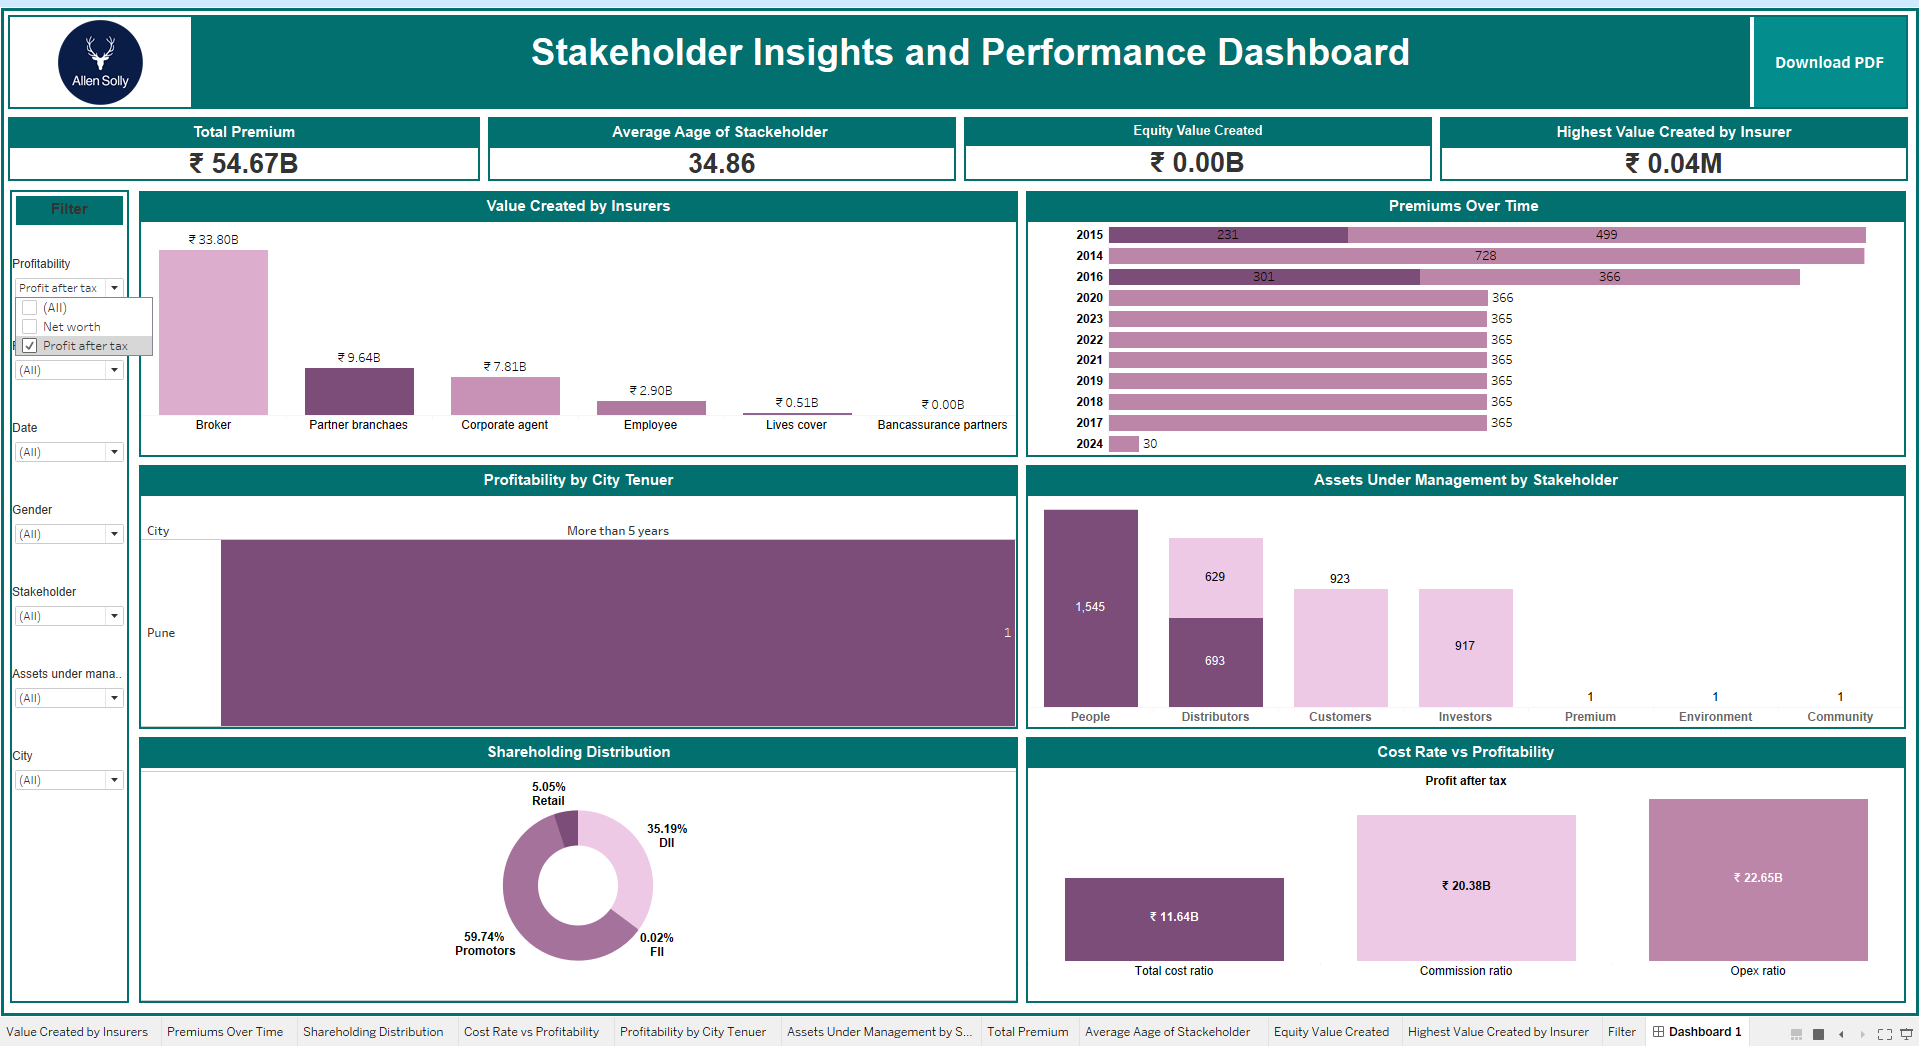

What the dashboard file says about the page in this screenshot:
{"tool":"tableau","page":{"name":"Dashboard 1","canvas":[1000,1000],"units":"permille","ordinal":0},"visuals":[{"type":"image","box":[4.7,9.3,108.2,114.5]},{"type":"text","box":[112.9,9.3,786.4,114.5]},{"type":"dashboard-object","box":[899.4,9.3,96,114.5]},{"type":"worksheet","title":"Total Premium","mark":"Automatic","box":[4.7,123.8,248.1,84.1]},{"type":"worksheet","title":"Average Aage of Stackeholder ","mark":"Automatic","box":[252.8,123.8,247.5,84.1]},{"type":"worksheet","title":"Equity Value Created","mark":"Automatic","box":[500.3,123.8,247.5,84.1]},{"type":"worksheet","title":"Highest Value Created by Insurer","mark":"Automatic","box":[747.8,123.8,247.5,84.1]},{"type":"worksheet","title":"Value Created by Insurers","mark":"Automatic","rows":["Value Created"],"cols":["Insurer"],"box":[79,212.6,457,258.2]},{"type":"worksheet","title":"Premiums Over Time ","mark":"Bar","rows":["Date"],"cols":["Premium 1"],"box":[536,212.6,457,258.2]},{"type":"worksheet","title":"Filter","mark":"Automatic","box":[7,216.1,67.3,75.9]},{"type":"filter","title":"Filter","param":"[federated.0yfau3w05cq0c913uq87d0wcffwb].[none:Profitability:nk]","box":[7,292.1,67.3,95.8]},{"type":"filter","title":"Filter","param":"[federated.0yfau3w05cq0c913uq87d0wcffwb].[none:Premium 1:nk]","box":[7,387.9,67.3,95.8]},{"type":"worksheet","title":"Profitability by City Tenuer","mark":"Square","rows":["City"],"cols":["Policy tenuer"],"box":[79,470.8,457,258.2]},{"type":"worksheet","title":"Assets Under Management by Stakeholder","mark":"Automatic","rows":["Assets under management"],"cols":["Stakeholder"],"box":[536,470.8,457,258.2]},{"type":"filter","title":"Filter","param":"[federated.0yfau3w05cq0c913uq87d0wcffwb].[my:Date:ok]","box":[7,483.6,67.3,95.8]},{"type":"filter","title":"Filter","param":"[federated.0yfau3w05cq0c913uq87d0wcffwb].[none:Gender:nk]","box":[7,579.4,67.3,95.8]},{"type":"filter","title":"Filter","param":"[federated.0yfau3w05cq0c913uq87d0wcffwb].[none:Stakeholder:nk]","box":[7,675.2,67.3,95.8]},{"type":"worksheet","title":"Shareholding Distribution","mark":"Pie","rows":["Calculation_127789675207553025","Calculation_127789675207553025"],"box":[79,729,457,257]},{"type":"worksheet","title":"Cost Rate vs Profitability","mark":"Automatic","rows":["Value Created"],"cols":["Profitability","Cost ratio"],"box":[536,729,457,257]},{"type":"filter","title":"Filter","param":"[federated.0yfau3w05cq0c913uq87d0wcffwb].[none:Assets under management:nk]","box":[7,771,67.3,95.8]},{"type":"filter","title":"Filter","param":"[federated.0yfau3w05cq0c913uq87d0wcffwb].[none:City:nk]","box":[7,866.8,67.3,95.8]}]}

Visuals, with their boxes on the dashboard's canvas, which has no fixed pixel size, in thousandths of its width and height (x1, y1, x2, y2). These are canvas units, not pixel positions in the 1919x1046 screenshot, which may show the page scaled, cropped or inside an application window:
image: bbox=(5, 9, 113, 124)
text: bbox=(113, 9, 899, 124)
dashboard-object: bbox=(899, 9, 995, 124)
"Total Premium" worksheet: bbox=(5, 124, 253, 208)
"Average Aage of Stackeholder " worksheet: bbox=(253, 124, 500, 208)
"Equity Value Created" worksheet: bbox=(500, 124, 748, 208)
"Highest Value Created by Insurer" worksheet: bbox=(748, 124, 995, 208)
"Value Created by Insurers" worksheet: bbox=(79, 213, 536, 471)
"Premiums Over Time " worksheet (Bar marks): bbox=(536, 213, 993, 471)
"Filter" worksheet: bbox=(7, 216, 74, 292)
"Filter" filter: bbox=(7, 292, 74, 388)
"Filter" filter: bbox=(7, 388, 74, 484)
"Profitability by City Tenuer" worksheet (Square marks): bbox=(79, 471, 536, 729)
"Assets Under Management by Stakeholder" worksheet: bbox=(536, 471, 993, 729)
"Filter" filter: bbox=(7, 484, 74, 579)
"Filter" filter: bbox=(7, 579, 74, 675)
"Filter" filter: bbox=(7, 675, 74, 771)
"Shareholding Distribution" worksheet (Pie marks): bbox=(79, 729, 536, 986)
"Cost Rate vs Profitability" worksheet: bbox=(536, 729, 993, 986)
"Filter" filter: bbox=(7, 771, 74, 867)
"Filter" filter: bbox=(7, 867, 74, 963)
